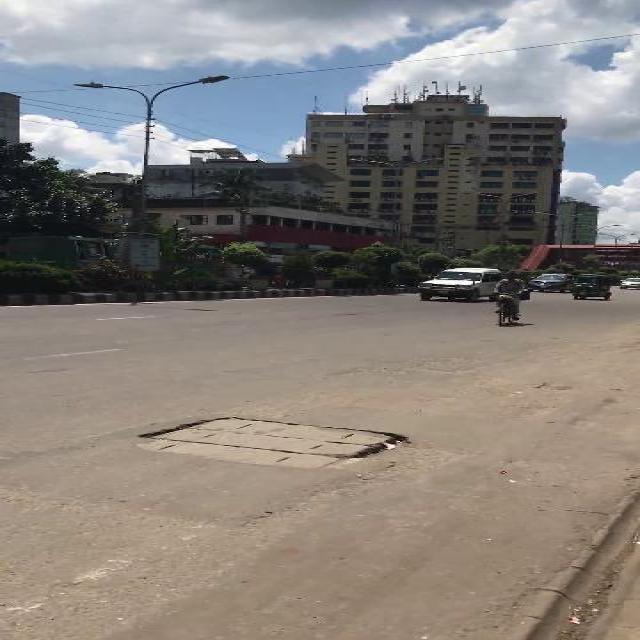15: (415, 266, 502, 300)
17: (569, 272, 611, 300)
5: (526, 272, 574, 292), (618, 276, 637, 288)
Motorcycle: (492, 270, 526, 326)
